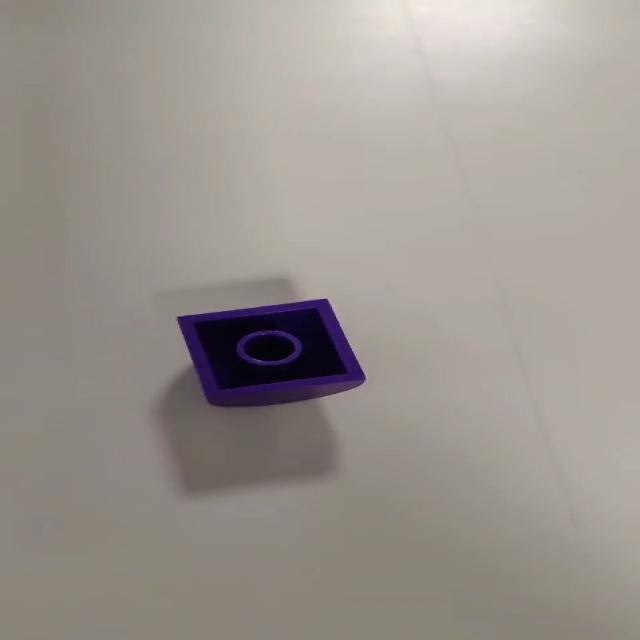H2x2x1: (178, 296, 370, 410)
